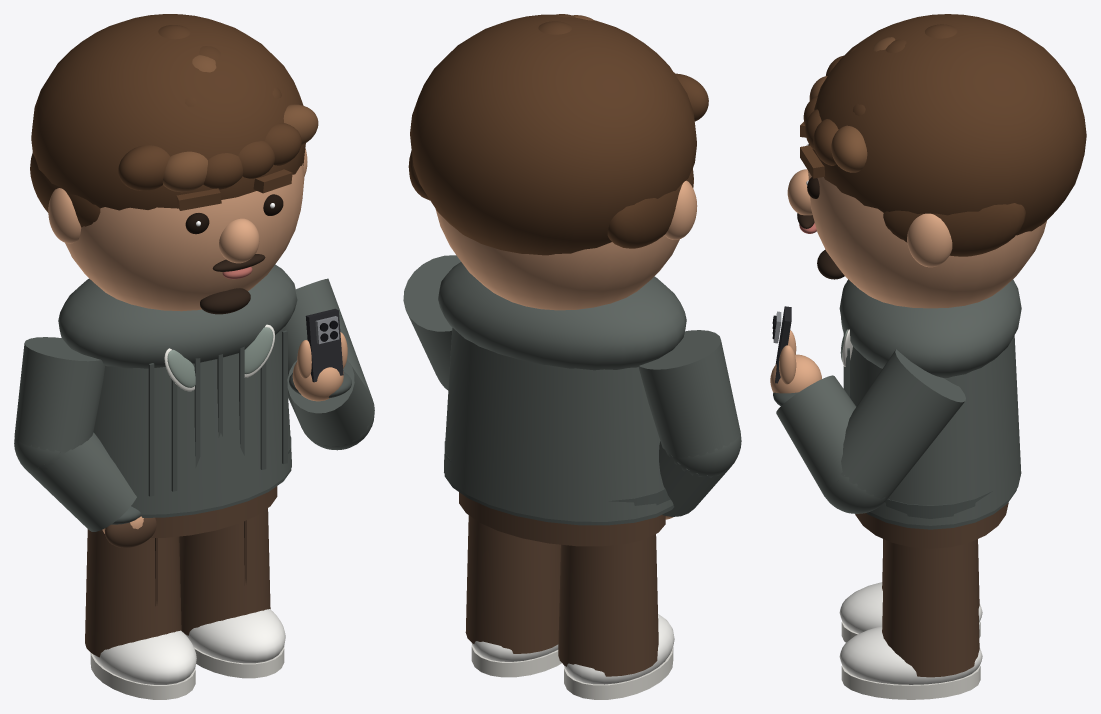
File: pencho3d-espejo.glb
3 renders of one model, left to right at view 1: azimuth 30°, elevation 25°; view 2: azimuth 150°, elevation 25°; view 3: azimuth 270°, elevation 25°, orthographic. The views are drawn at different scales.
Parts seen in each view (by area): view 1: esfera|pelo (×6), cil-1-1.1|jersey, esfera|piel (×4), cil-1-1.08|pantalon (×2), esfera|jersey (×2), cil-1-0.8999999999999999|jersey (×2), cil-1-0.888888888888889|jersey (×2), esfera|zapatilla (×2), caja|punto (×6), cil-1-1|suela (×2), cil-1-1|pantalon, esfera|mecha (×2) (+6 smaller); view 2: esfera|pelo (×3), cil-1-1.1|jersey, cil-1-1.08|pantalon (×2), esfera|jersey (×2), cil-1-0.8999999999999999|jersey (×2), esfera|piel (×2), cil-1-1|pantalon, cil-1-1|suela (×2), esfera|zapatilla (×2), cil-1-0.888888888888889|jersey, cil-1-1|punto; view 3: esfera|pelo (×3), esfera|piel (×5), cil-1-1.1|jersey, esfera|jersey (×2), cil-1-1.08|pantalon, cil-1-0.8999999999999999|jersey, cil-1-0.888888888888889|jersey, esfera|zapatilla (×2), cil-1-1|pantalon, cil-1-1|suela, cil-1-1|punto, esfera|mecha (+2 smaller).
Boxes of the visible parts, x1,y1,x2,y2 form: esfera|pelo (×6): [30, 14, 305, 227]; cil-1-1.1|jersey: [93, 328, 291, 514]; esfera|piel (×4): [48, 163, 343, 401]; cil-1-1.08|pantalon (×2): [85, 508, 270, 657]; esfera|jersey (×2): [14, 264, 297, 473]; cil-1-0.8999999999999999|jersey (×2): [14, 278, 371, 452]; cil-1-0.888888888888889|jersey (×2): [27, 359, 374, 531]; esfera|zapatilla (×2): [93, 609, 285, 684]; caja|punto (×6): [148, 330, 287, 496]; cil-1-1|suela (×2): [90, 647, 284, 699]; cil-1-1|pantalon: [98, 486, 277, 537]; esfera|mecha (×2): [162, 104, 318, 192]; esfera|pelo (×3): [410, 14, 708, 255]; cil-1-1.1|jersey: [444, 328, 673, 521]; cil-1-1.08|pantalon (×2): [465, 515, 658, 676]; esfera|jersey (×2): [438, 262, 741, 477]; cil-1-0.8999999999999999|jersey (×2): [403, 255, 740, 457]; esfera|piel (×2): [435, 180, 697, 310]; cil-1-1|pantalon: [459, 492, 665, 546]; cil-1-1|suela (×2): [471, 645, 673, 699]; esfera|zapatilla (×2): [471, 614, 674, 684]; cil-1-0.888888888888889|jersey: [659, 441, 732, 516]; cil-1-1|punto: [444, 441, 674, 525]; esfera|pelo (×3): [812, 14, 1086, 256]; esfera|piel (×5): [770, 169, 1046, 393]; cil-1-1.1|jersey: [844, 335, 1021, 525]; esfera|jersey (×2): [821, 279, 1021, 513]; cil-1-1.08|pantalon: [882, 539, 979, 677]; cil-1-0.8999999999999999|jersey: [840, 349, 965, 499]; cil-1-0.888888888888889|jersey: [776, 375, 856, 495]; esfera|zapatilla (×2): [839, 582, 982, 684]; cil-1-1|pantalon: [855, 502, 1008, 548]; cil-1-1|suela: [841, 665, 980, 699]; cil-1-1|punto: [866, 489, 1016, 529]; esfera|mecha: [831, 125, 867, 172].
Bounding box in the file's own units: 0.86 × 1.61 × 0.73.
